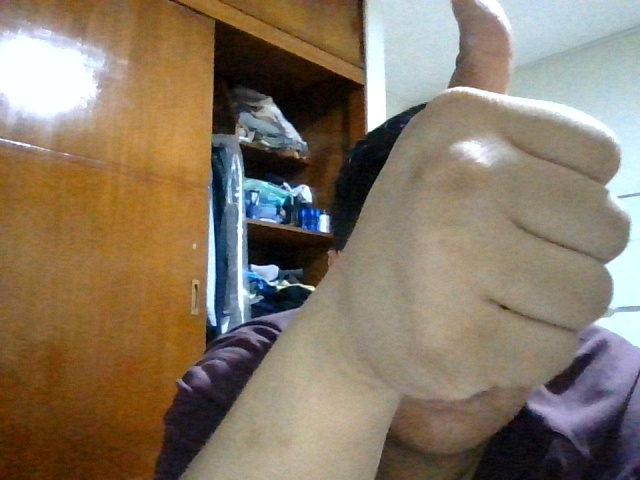si: (350, 4, 635, 393)
